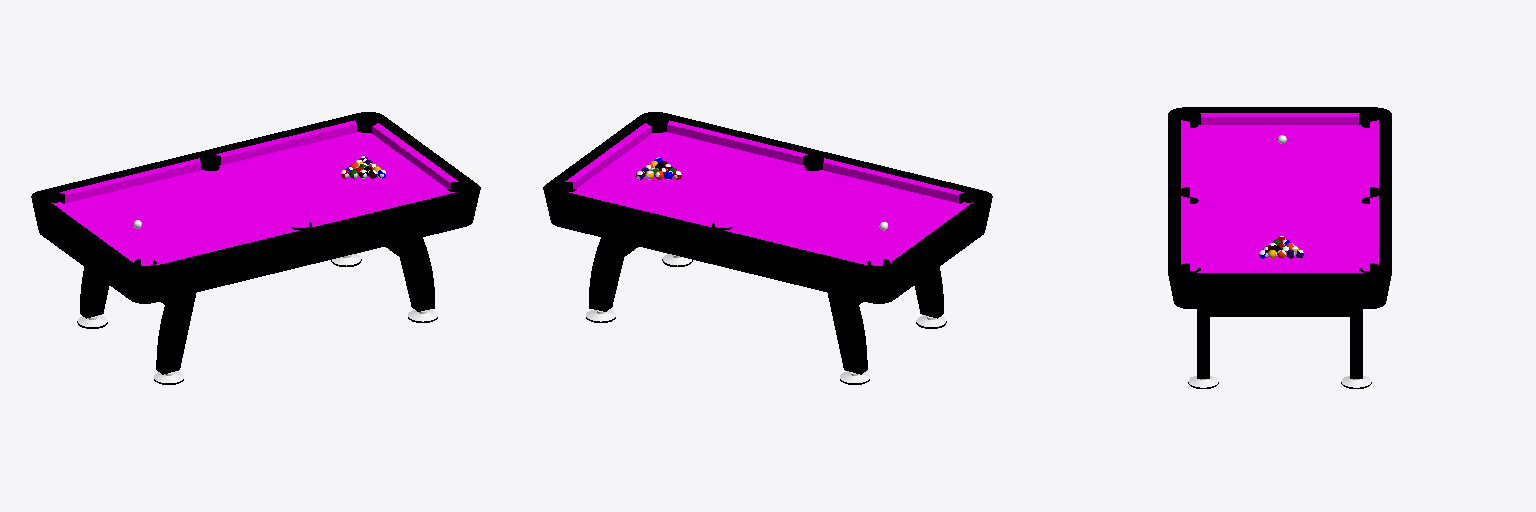
File: PoolTable.obj
3 views of the same model, side by side, from view 1: azimuth 30°, elevation 25°; view 2: azimuth 150°, elevation 25°; view 3: azimuth 270°, elevation 25° (orthographic).
Visible parts, largest first — view 1: Mesh45 Group1 Model, Mesh3 Group3 Group1 Model, Mesh7 Group5 Group1 Model, Mesh1 Group2 Group1 Model; view 2: Mesh45 Group1 Model, Mesh1 Group2 Group1 Model, Mesh5 Group4 Group1 Model, Mesh3 Group3 Group1 Model; view 3: Mesh45 Group1 Model, Mesh46 Group1 Model, Mesh5 Group4 Group1 Model, Mesh7 Group5 Group1 Model.
Part boxes in pixels (x1,y1,x2,y2): Mesh45 Group1 Model: (31, 112, 480, 303); Mesh3 Group3 Group1 Model: (156, 293, 195, 374); Mesh7 Group5 Group1 Model: (397, 237, 434, 311); Mesh1 Group2 Group1 Model: (80, 267, 109, 318); Mesh45 Group1 Model: (543, 112, 992, 303); Mesh1 Group2 Group1 Model: (828, 293, 867, 374); Mesh5 Group4 Group1 Model: (589, 237, 626, 311); Mesh3 Group3 Group1 Model: (914, 267, 943, 318); Mesh45 Group1 Model: (1168, 107, 1391, 308); Mesh46 Group1 Model: (1210, 309, 1349, 316); Mesh5 Group4 Group1 Model: (1350, 309, 1362, 378); Mesh7 Group5 Group1 Model: (1197, 309, 1209, 378).
Bounding box in the file's own units: 2.1 × 0.738 × 1.17.